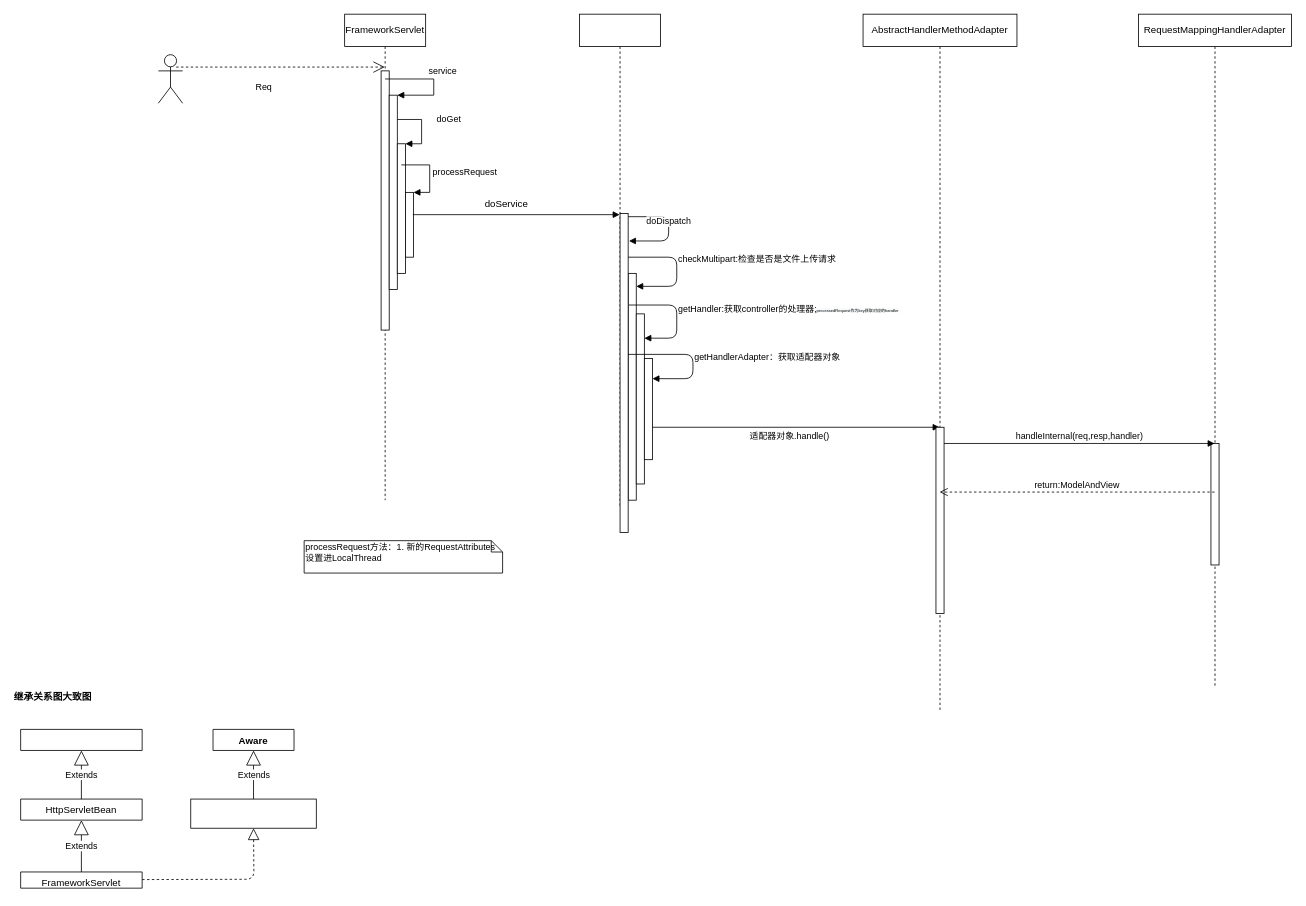
Some shapes in this 1306 by 906 pixel diagram are drawn without their labels. Here are the shapes that lost their labels. From the top down, the box of each, then its label:
(158, 54, 183, 103): Actor
(579, 13, 661, 508): DispatcherServlet
(20, 729, 142, 750): HttpServlet
(190, 798, 316, 828): ApplicationContextAware
